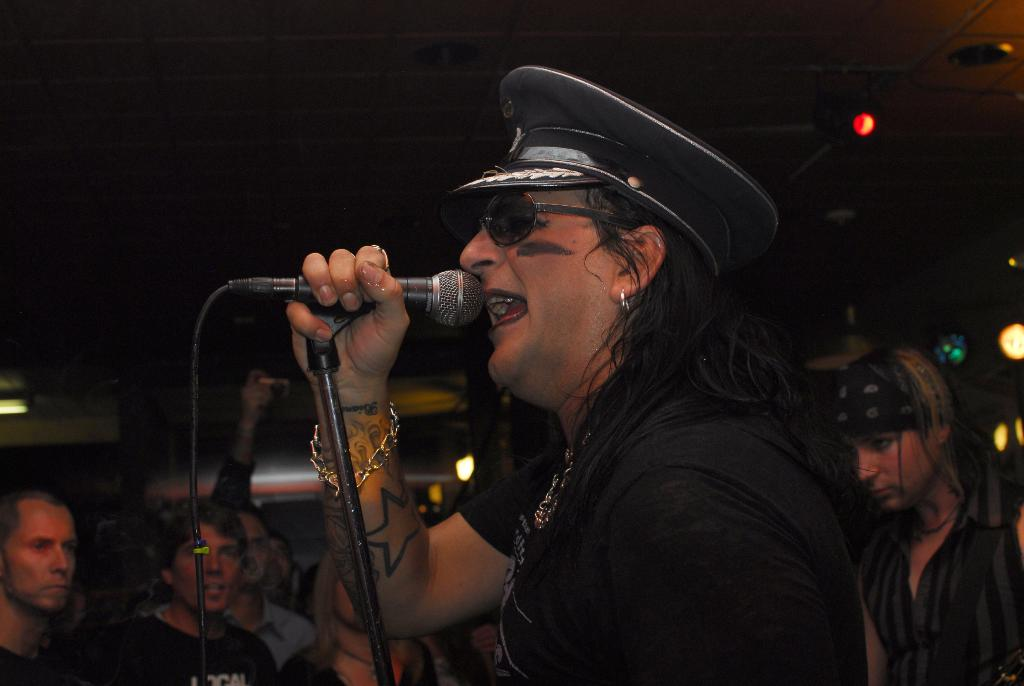Human_hand: (292, 247, 408, 386), (239, 370, 281, 423)
